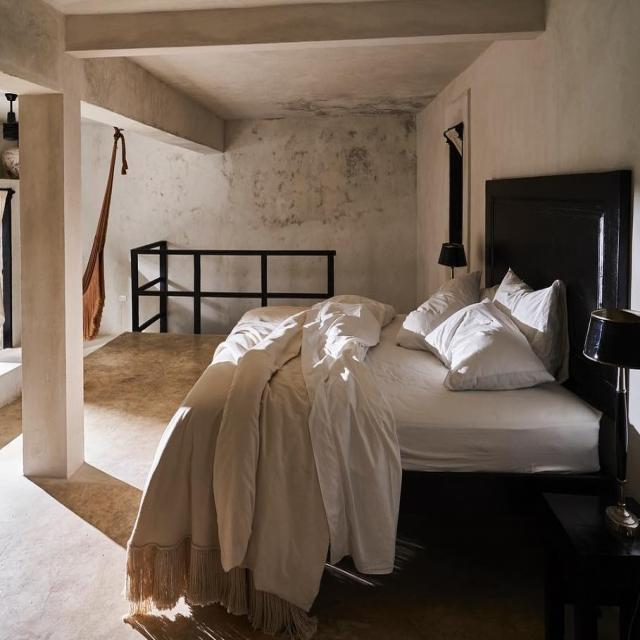bed: (160, 240, 618, 559)
